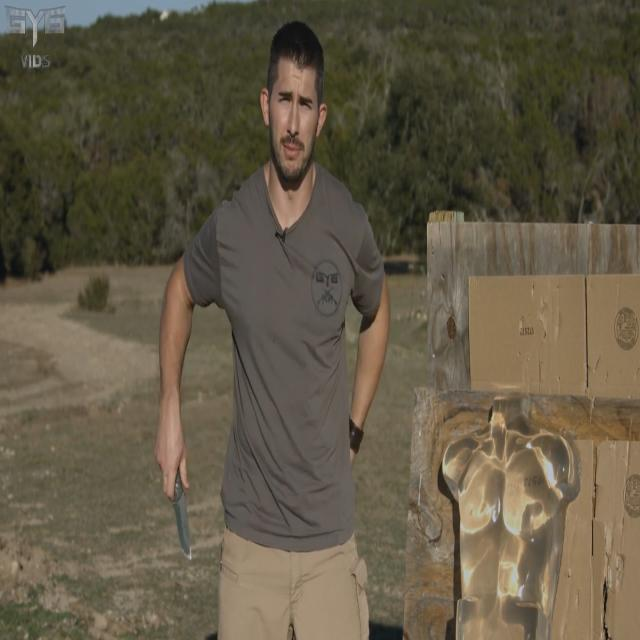knife: (172, 477, 194, 561)
